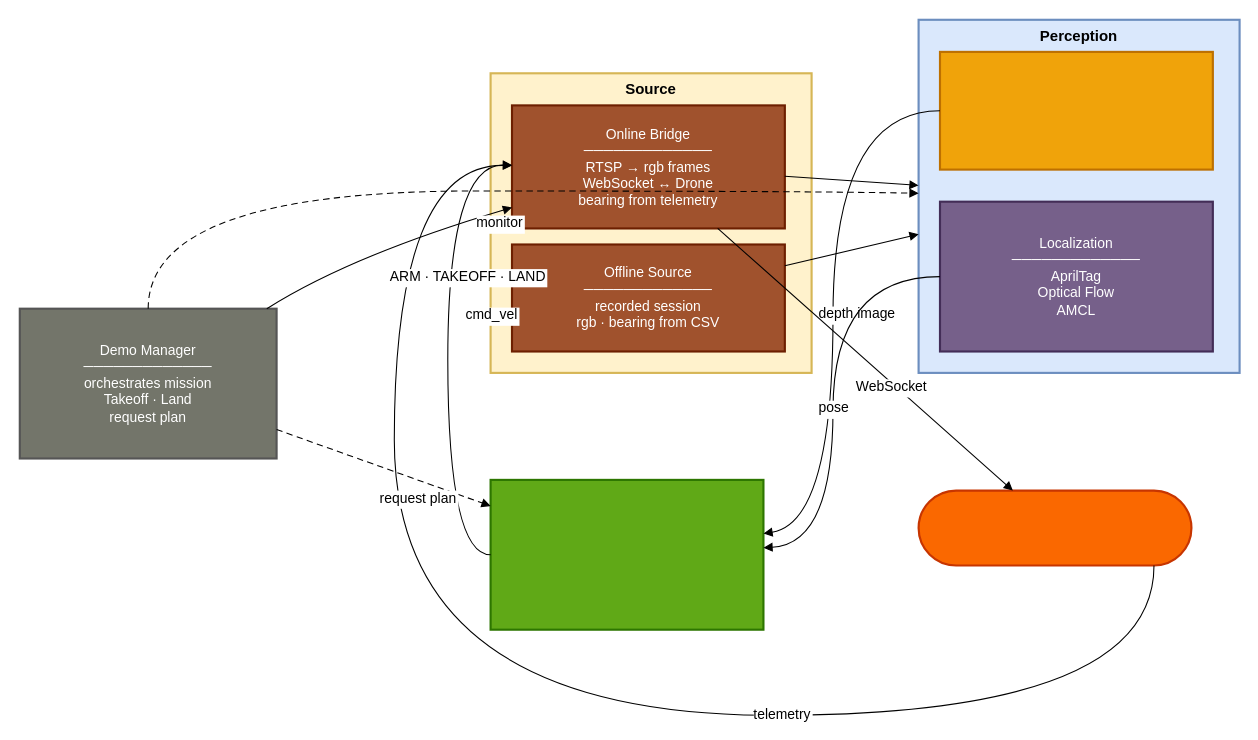
Some shapes in this 1258 by 740 pixel diagram are drawn without their labels. The centre of each missing label's shape, as x and y in pixels:
"Depth ───────────── DA3 TRT · pre-computed .npy RGB → metric depth image" belongs at point (1075, 110).
"Drone XTEND · ROBOTICAN · SJTU" belongs at point (1054, 527).
"Falcon ROS1 ───────────── 2D / 3D Occupancy RRT planner → /cmd_vel" belongs at point (626, 554).
